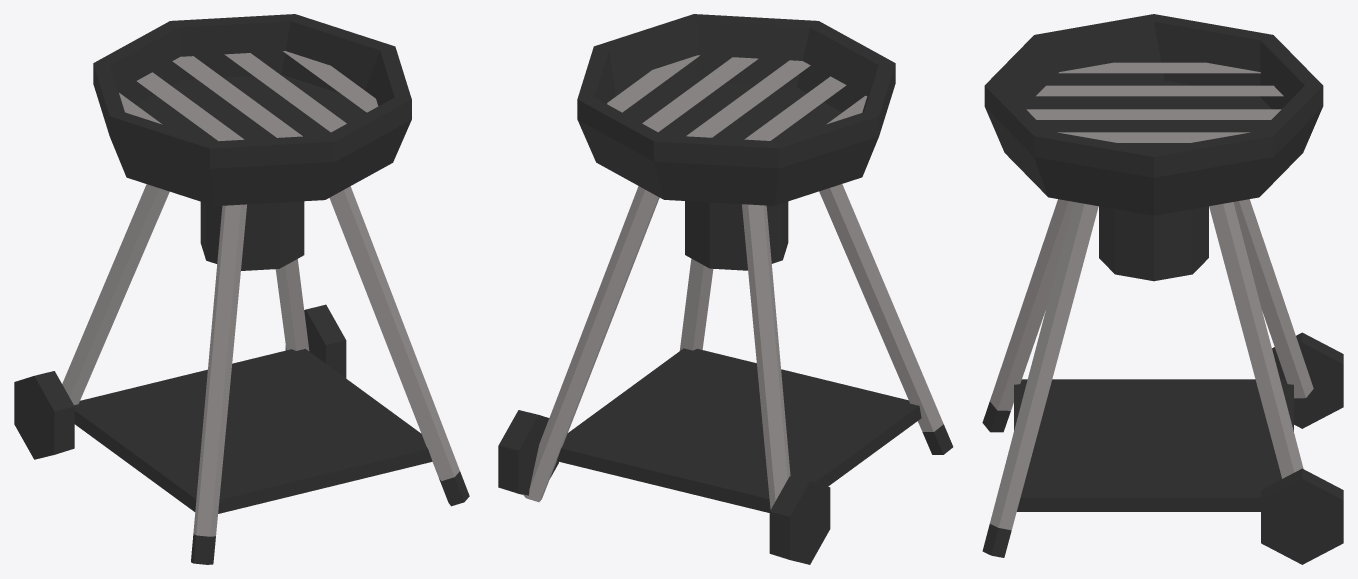
File: grill-round-base.glb
The picture shows the model from 3 angles, left to right: view 1: azimuth 30°, elevation 25°; view 2: azimuth 150°, elevation 25°; view 3: azimuth 270°, elevation 25°; orthographic projection. The views are drawn at different scales.
Parts seen in each view (by area): view 1: grill-round-base; view 2: grill-round-base; view 3: grill-round-base.
Part boxes in pixels (x1=…): grill-round-base: x1=14, y1=14, x2=469, y2=564; grill-round-base: x1=498, y1=14, x2=953, y2=564; grill-round-base: x1=982, y1=14, x2=1343, y2=564.
Size of the model in its own units: 0.5883 by 0.7661 by 0.6138.
Materials: 1 (1 with a texture image).
